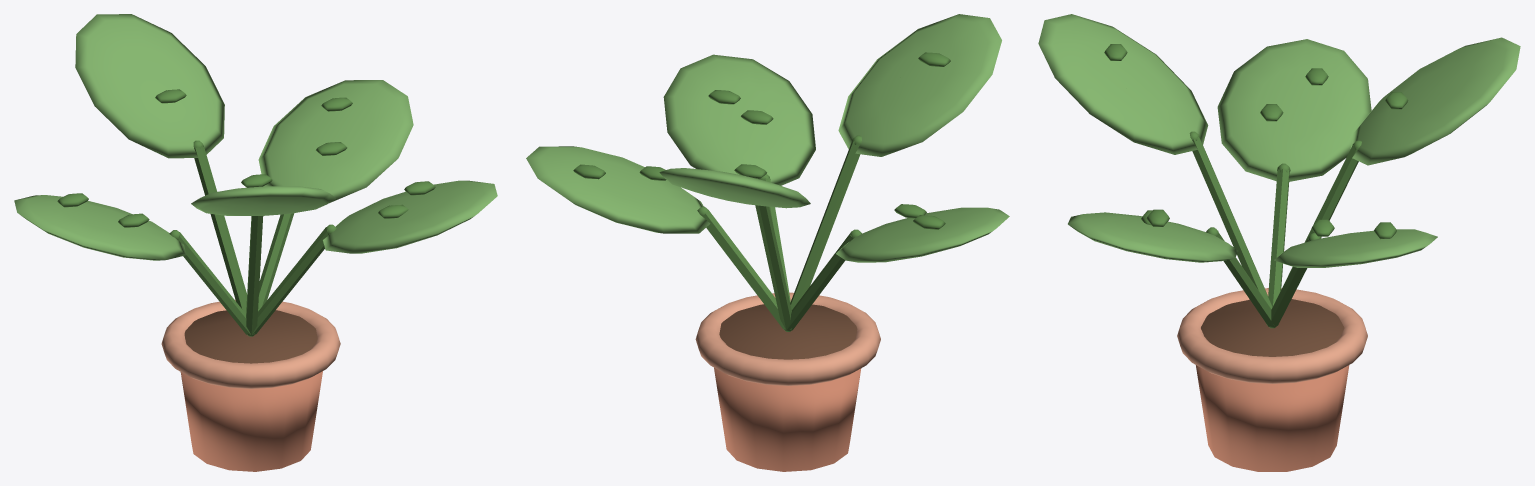
The model's file is monstera.glb.
3 views of the same model, side by side, from view 1: azimuth 30°, elevation 25°; view 2: azimuth 150°, elevation 25°; view 3: azimuth 270°, elevation 25° (orthographic). The views are drawn at different scales.
Visible parts, largest first — view 1: monstera; view 2: monstera; view 3: monstera.
Boxes of the visible parts, x1,y1,x2,y2 form: monstera: [14, 14, 497, 471]; monstera: [526, 14, 1009, 471]; monstera: [1038, 14, 1520, 471].
Size of the model in its own units: 2.63 by 2.15 by 2.47.
